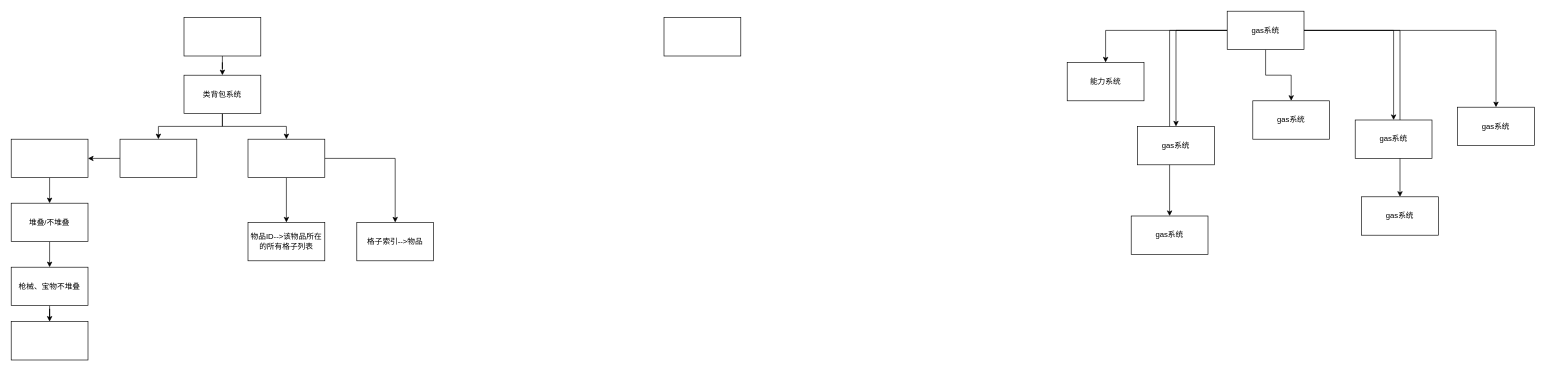
The diagram is 1546 pixels wide and 371 high, and some of its shapes have lost their labels. Here are the shapes that lost their labels. From the top down, the centre of each, then its label:
At (222,36): "道具栏".
At (702,36): "效果系统".
At (49,158): "堆叠系统".
At (158,158): "格子系统".
At (286,158): "索引系统".
At (49,340): "枪械不具有唯一性".
